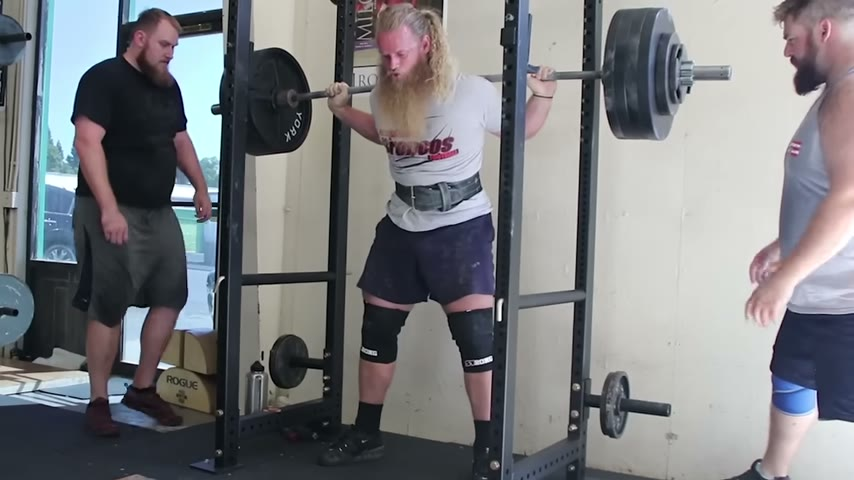barbell_plate_side: (657, 4, 737, 148), (488, 7, 569, 147), (224, 41, 309, 164)
